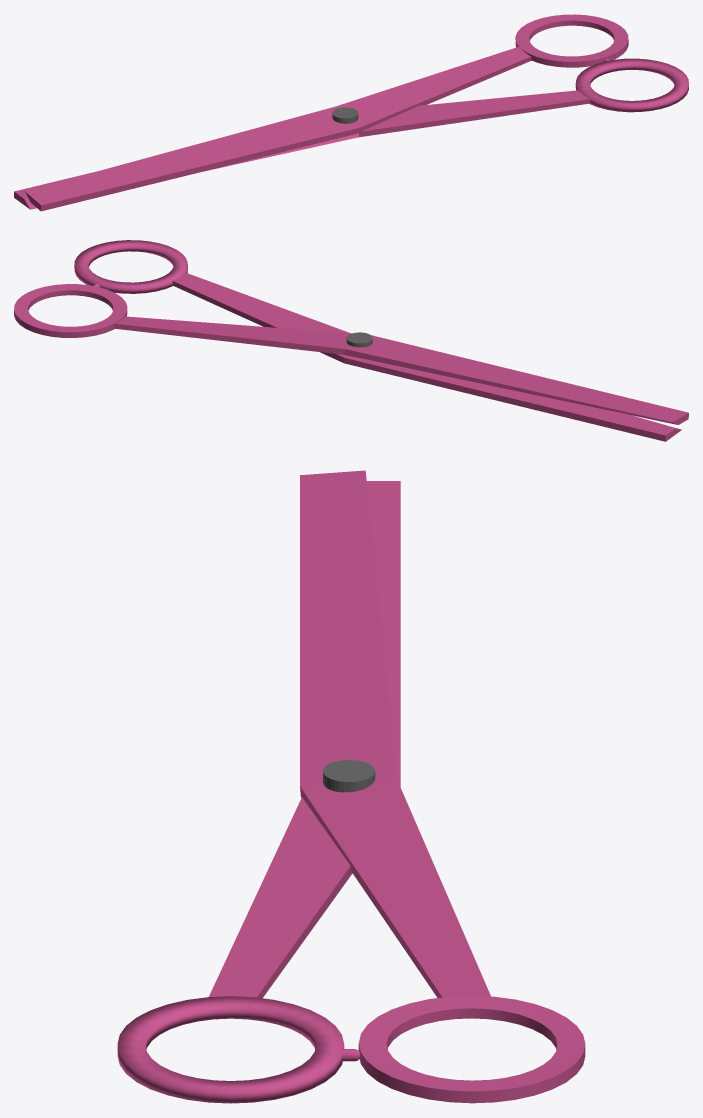
The model's file is Cut.fbx.
3 renders of one model, top to bottom at view 1: azimuth 30°, elevation 25°; view 2: azimuth 150°, elevation 25°; view 3: azimuth 270°, elevation 25°, orthographic. The views are drawn at different scales.
Parts seen in each view (by area): view 1: Cut1, Cut, Cylinder; view 2: Cut1, Cut, Cylinder; view 3: Cut1, Cut, Cylinder.
Boxes of the visible parts, <box> form: Cut1: <box>25,14,628,211</box>; Cut: <box>14,58,688,209</box>; Cylinder: <box>332,107,358,123</box>; Cut1: <box>14,284,688,424</box>; Cut: <box>74,240,681,441</box>; Cylinder: <box>346,332,372,347</box>; Cut1: <box>300,470,585,1103</box>; Cut: <box>117,481,400,1103</box>; Cylinder: <box>323,760,375,792</box>.
Size of the model in its own units: 9.98 by 0.3105 by 3.24.
